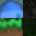slime: (0, 0, 23, 18)
torchT: (6, 18, 23, 32)
